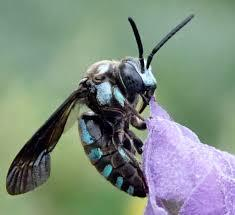Thyreus: (3, 10, 200, 205)
